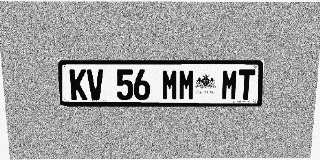5: (116, 69, 133, 100)
6: (133, 69, 150, 100)
K: (69, 69, 87, 100)
M: (178, 69, 195, 100), (221, 69, 238, 100), (162, 69, 178, 100)
T: (238, 69, 255, 100)
V: (87, 69, 104, 100)
